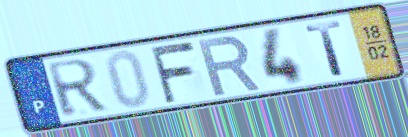0: (103, 47, 154, 111)
4: (259, 25, 309, 87)
F: (147, 38, 198, 106)
R: (195, 33, 264, 99), (43, 57, 111, 120)
T: (303, 19, 348, 79)
